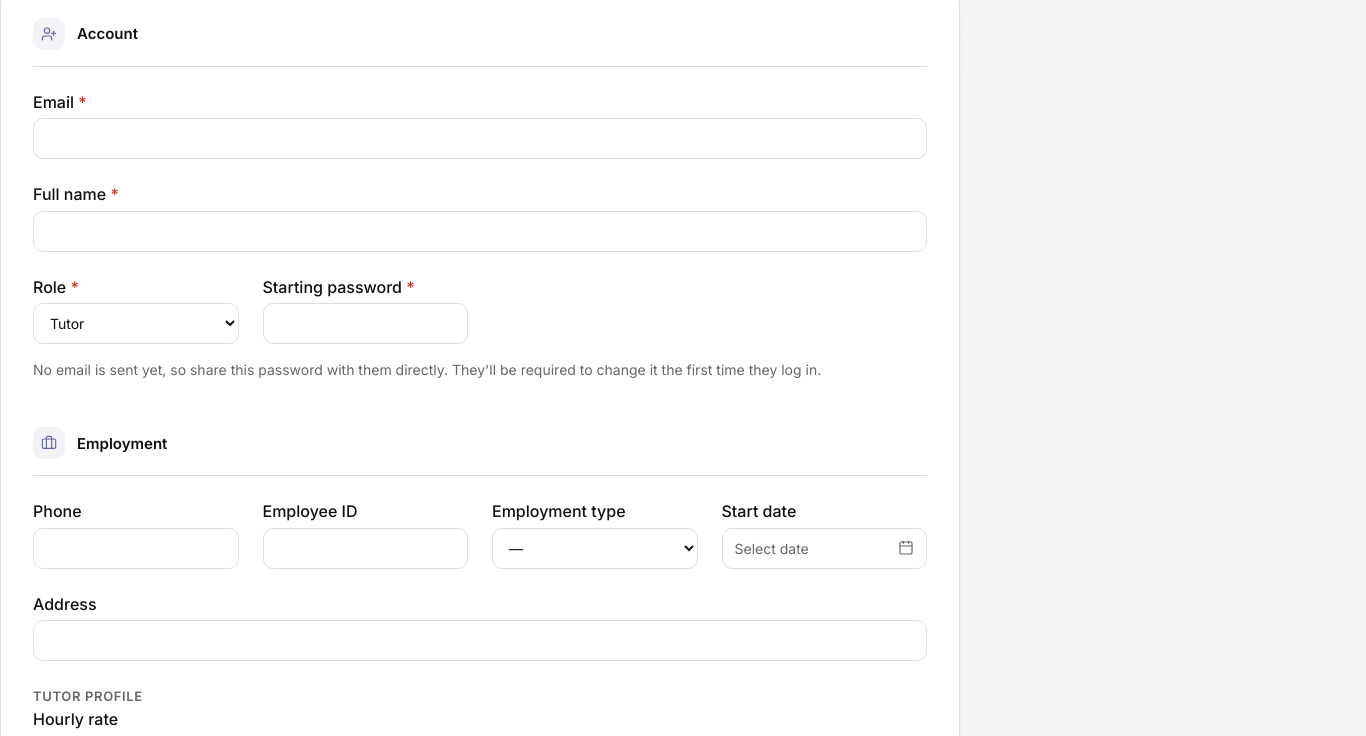
CreateUserPage submission › returns to the users list (not the new user's edit page) after a successful create
The width and height of the screenshot is (1366, 736).
In the field labelled "Email": (480, 139) [33, 118, 927, 159], type "johndoe@gmail.com"
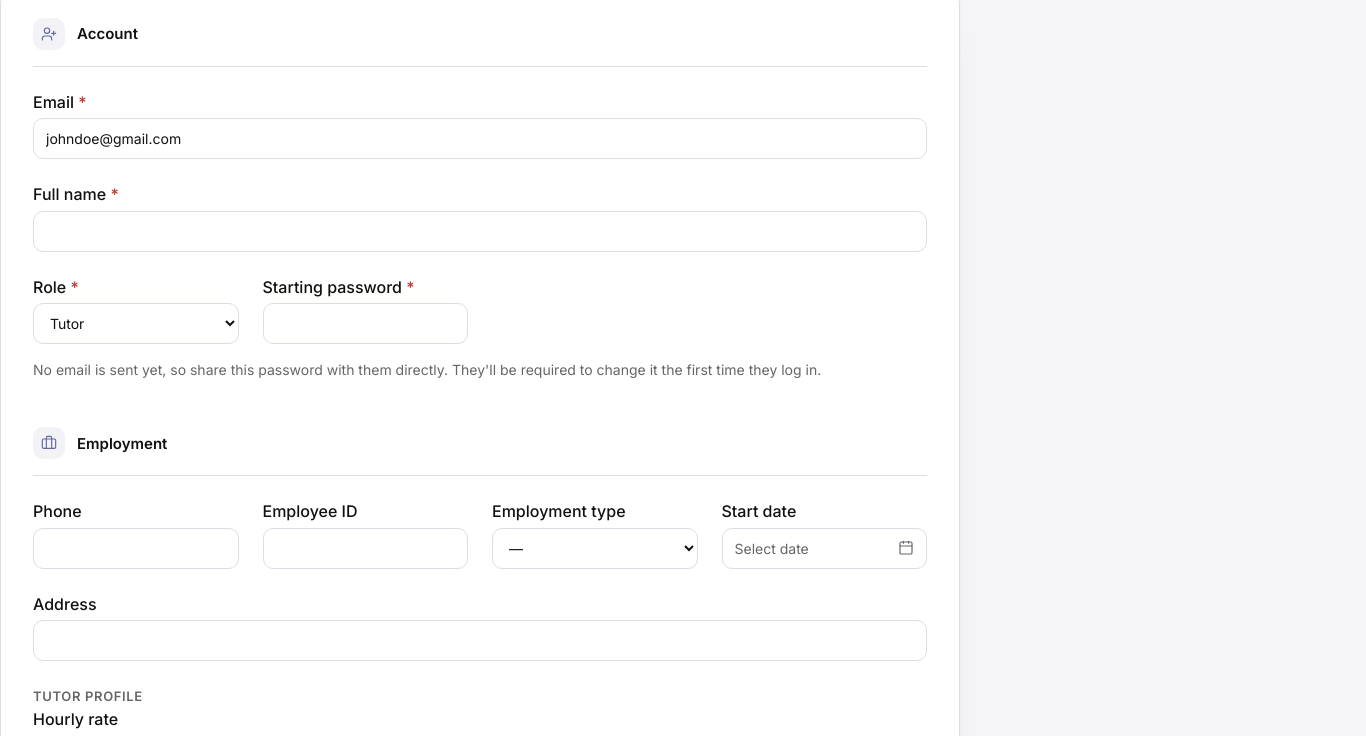
In the field labelled "Full name": (480, 231) [33, 211, 927, 252], type "John Doe"
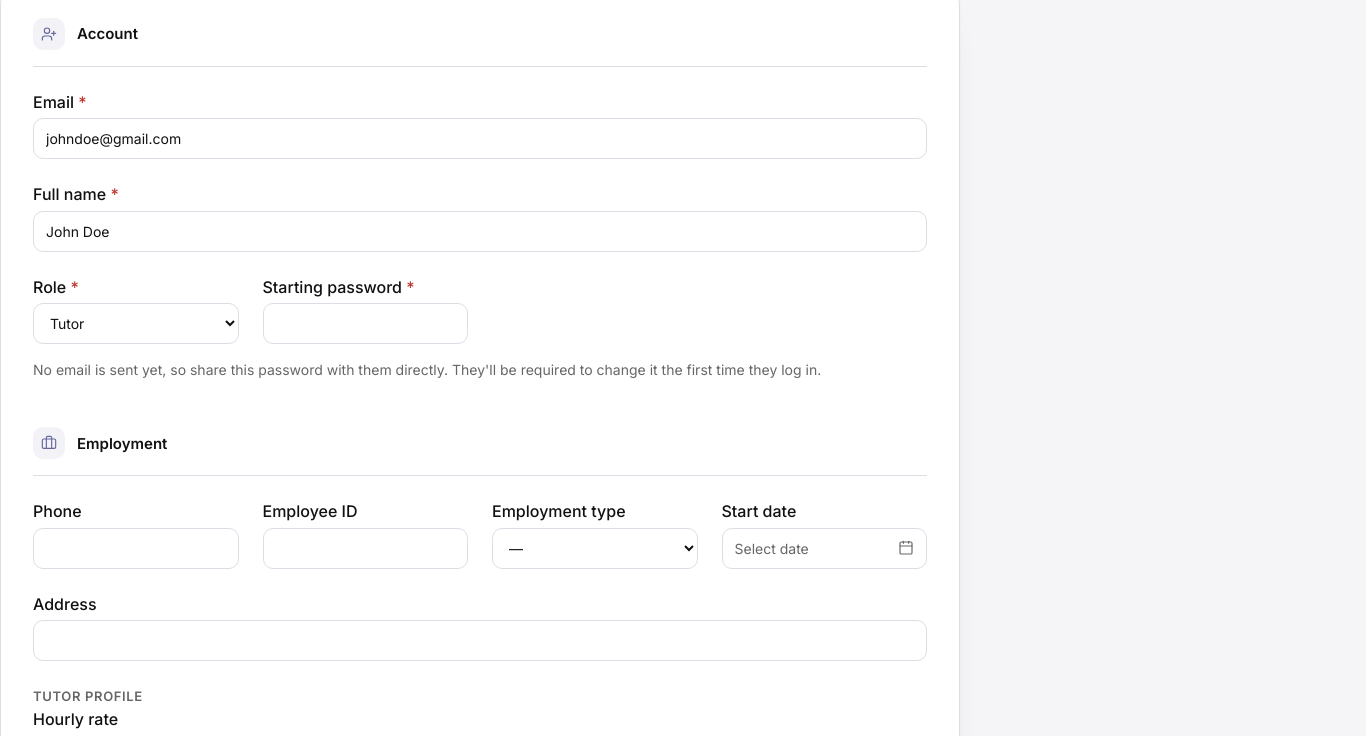
In the password field labelled "Starting password": (365, 324) [262, 303, 468, 344], type "TemporaryPassw0rd!"
(page scrolled)
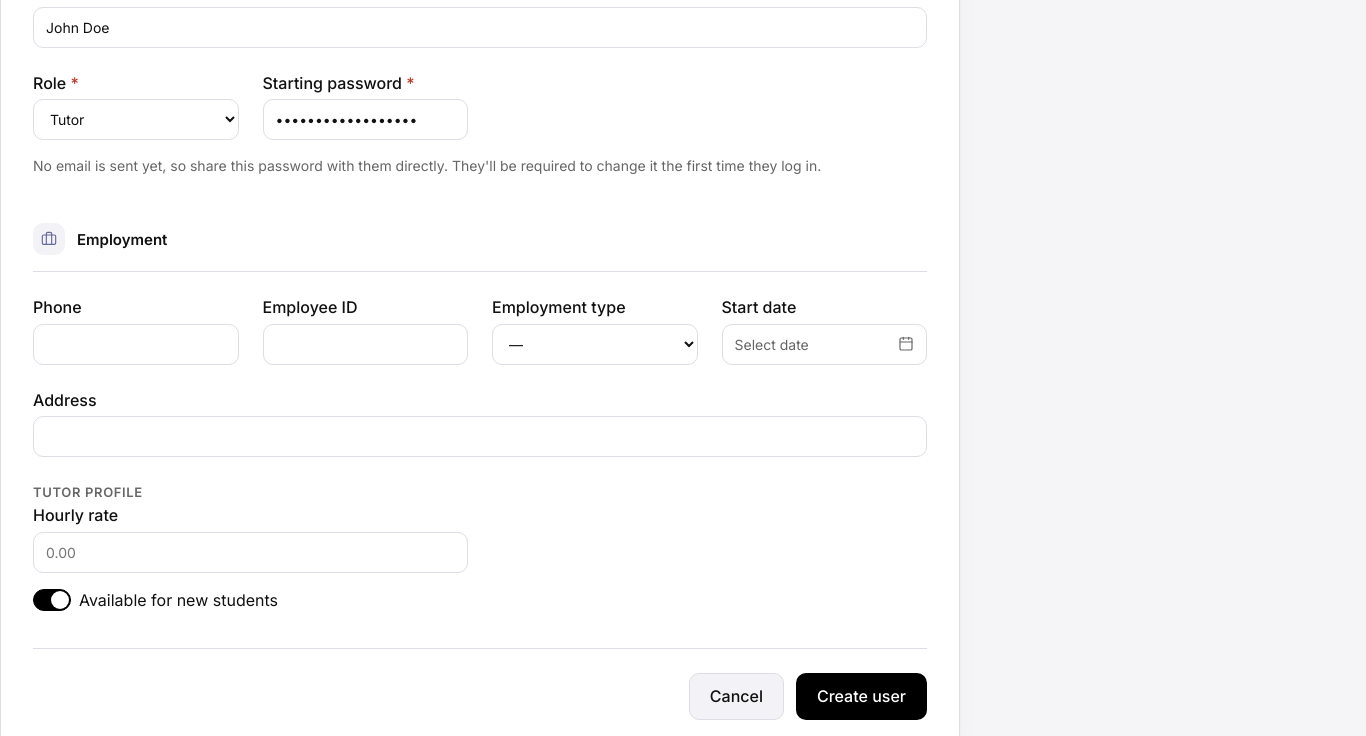
Click the button "Create user": click(862, 697) [796, 673, 927, 720]
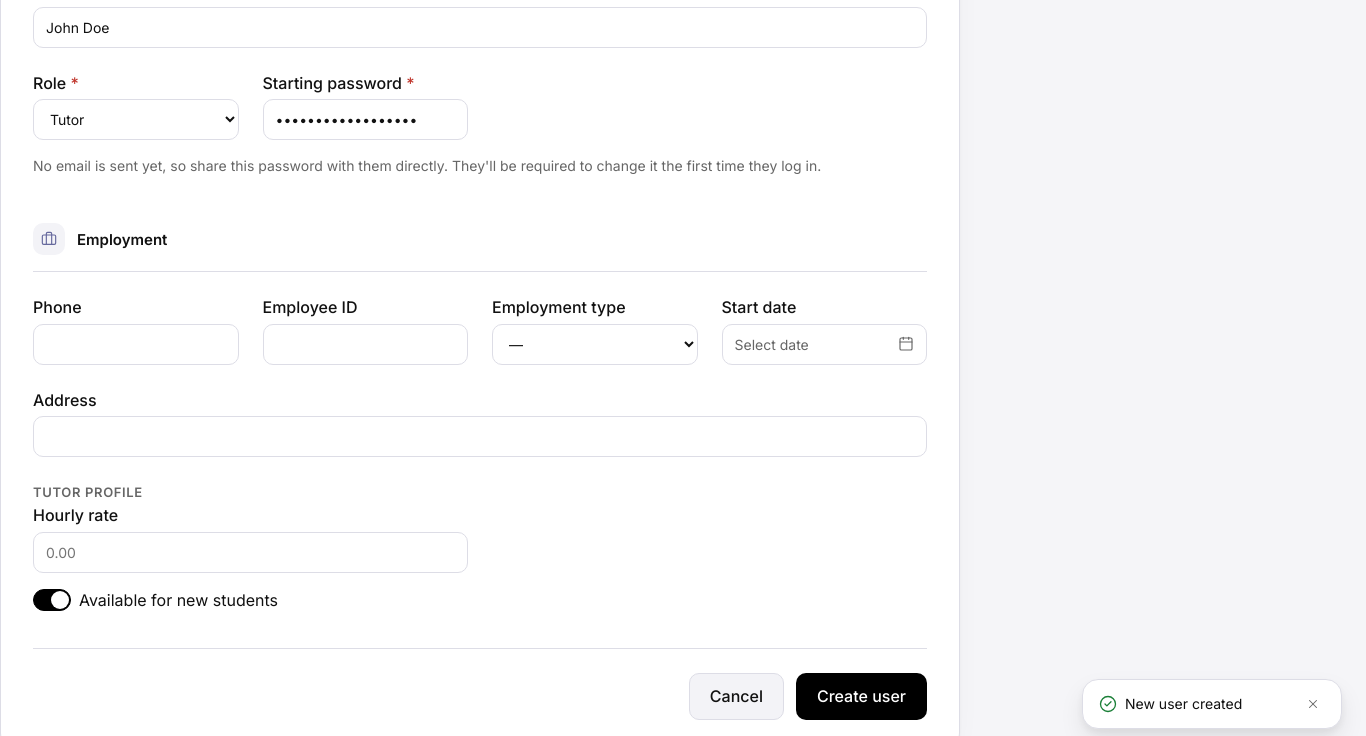
Result: the text "New user created" is shown at [1125, 695, 1242, 712]
